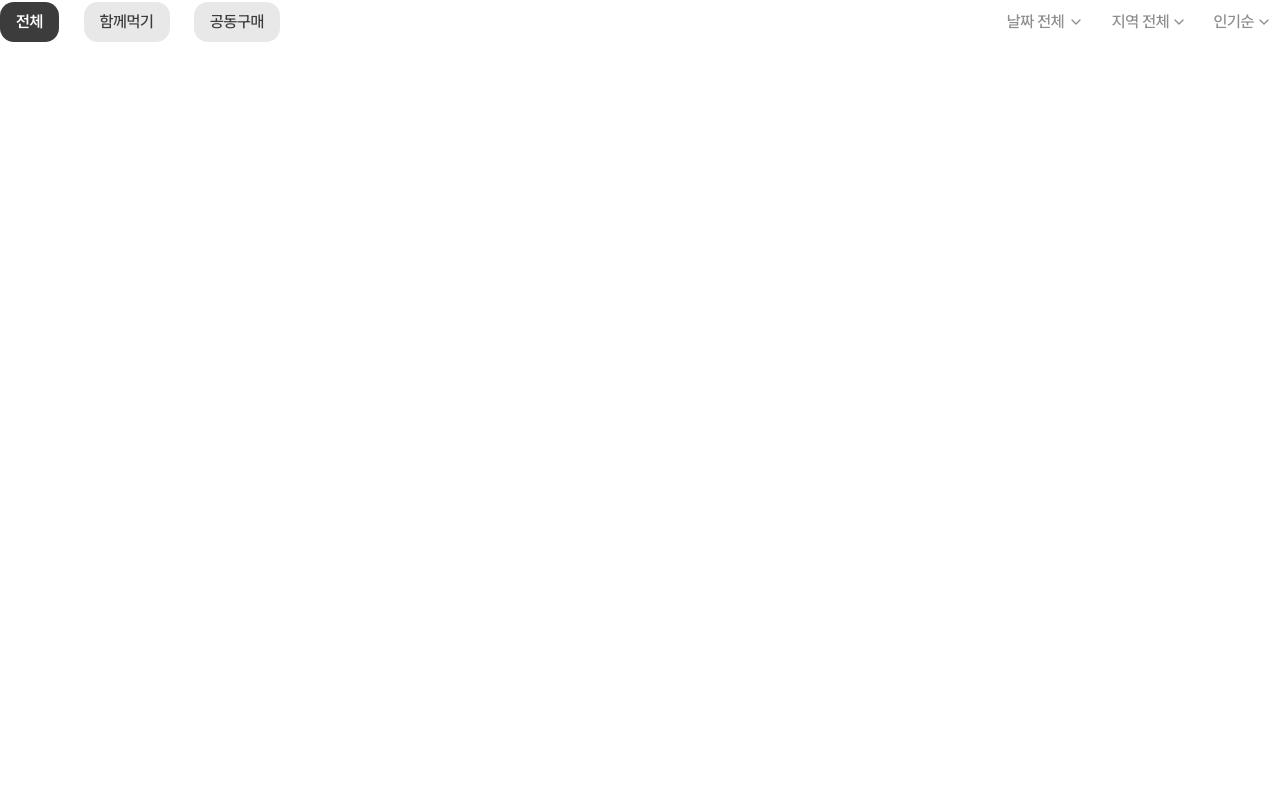
MeetingFilterBar › 지역 버튼을 누르면 지역 선택 다이얼로그가 열린다
Step 1. Click the button "지역 전체" → (1150, 22), box [1102, 0, 1198, 44]
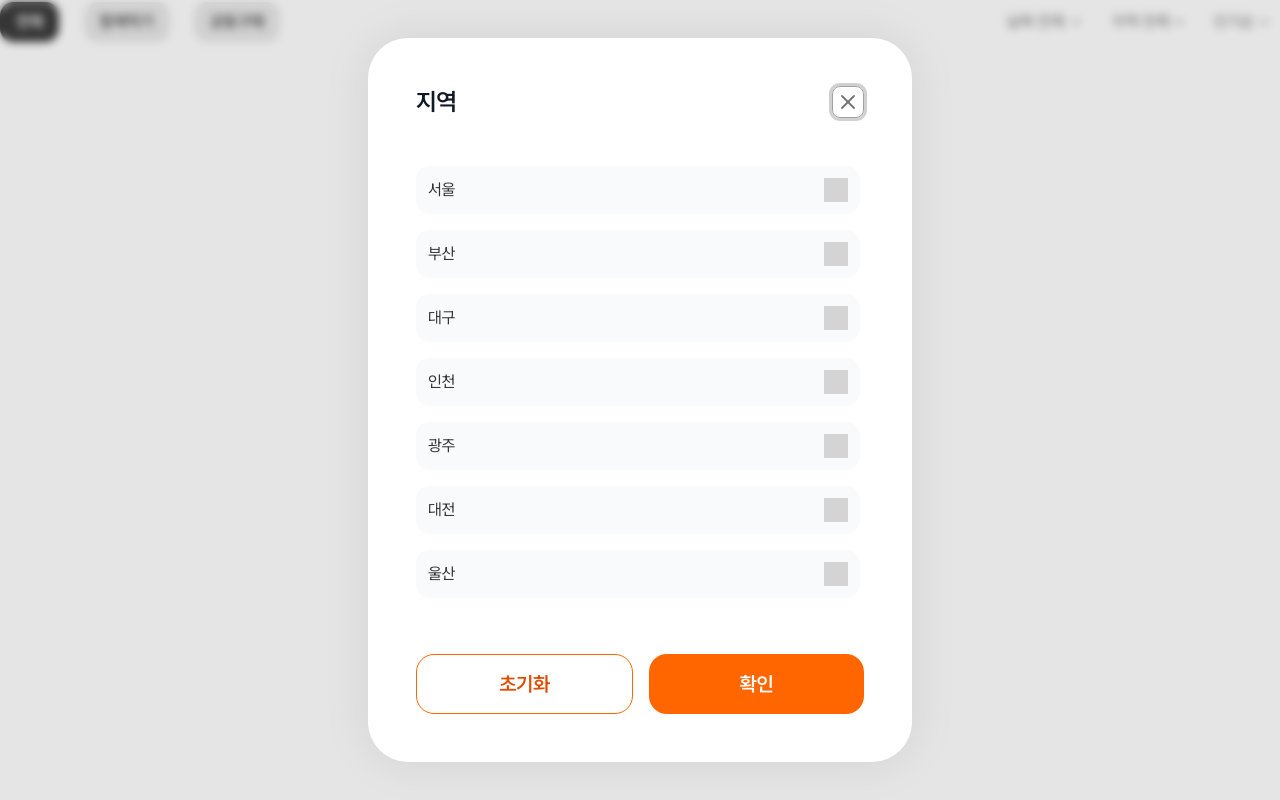
Check: the dialog is shown, box [368, 38, 912, 762]
Check: the heading "지역" is shown, box [416, 87, 456, 116]
Check: the list named "시·도 목록" is shown, box [416, 166, 860, 598]
